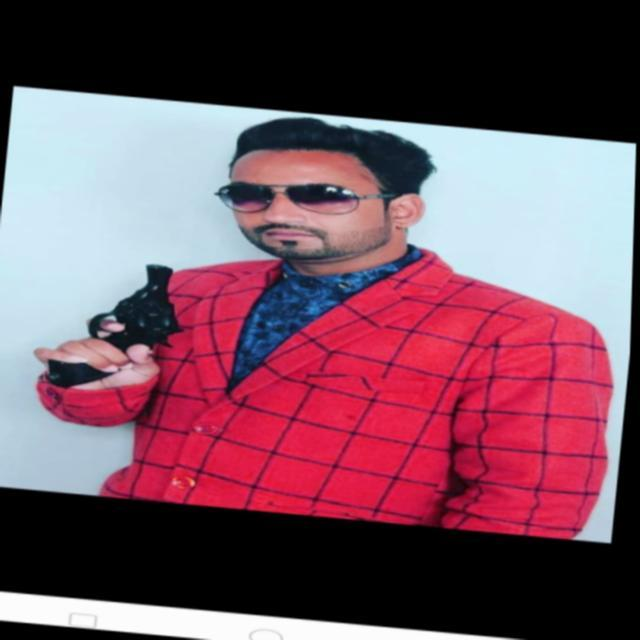weapon: (39, 252, 198, 399)
